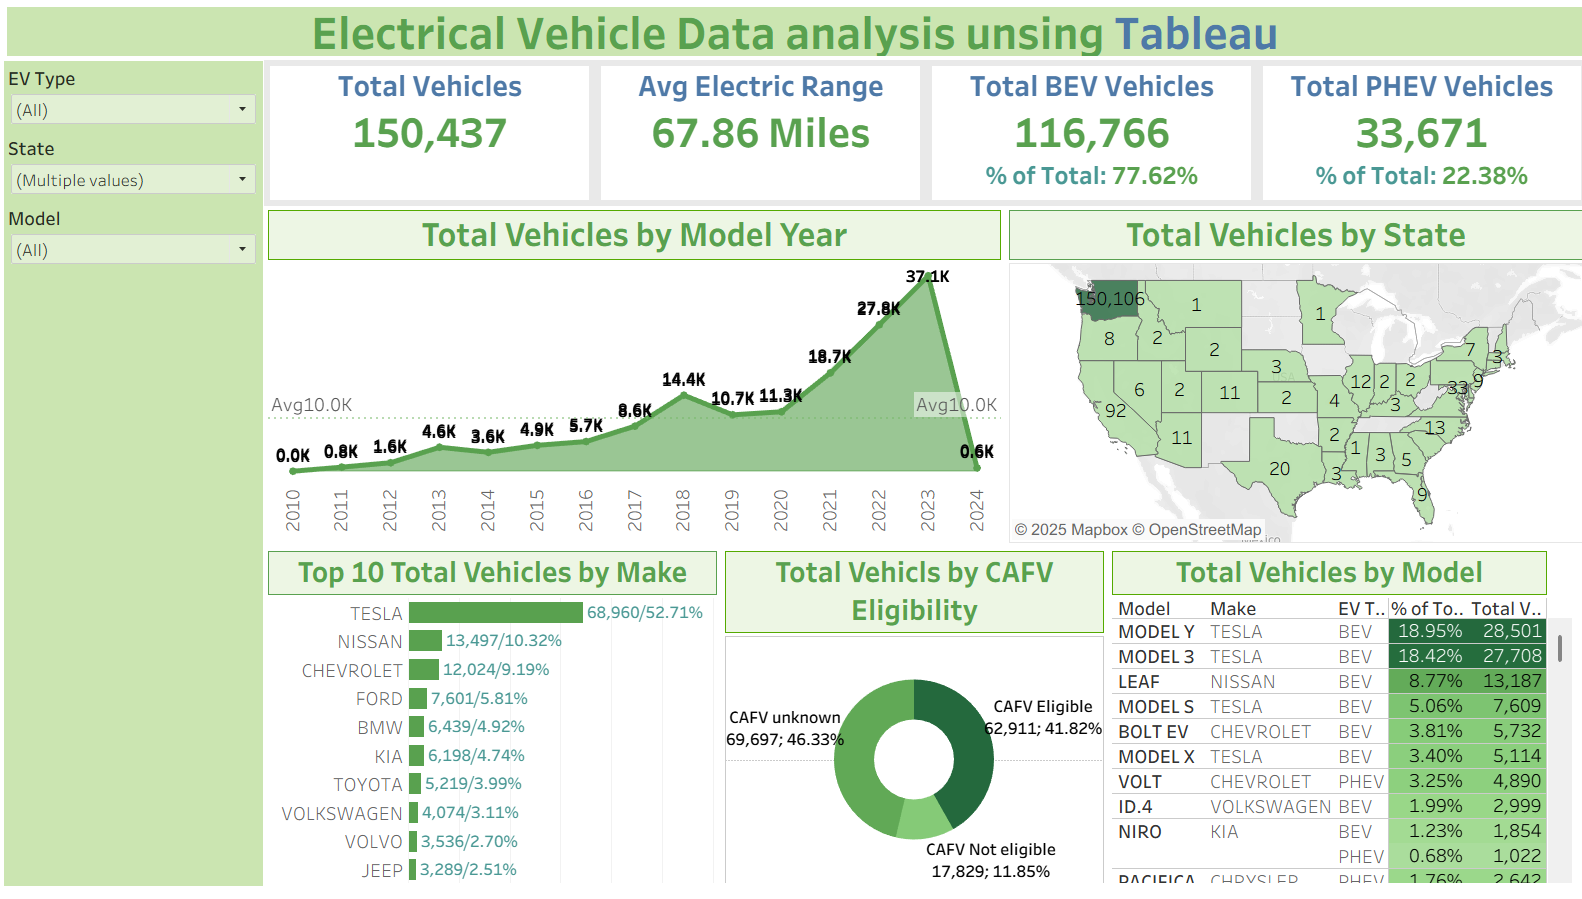

Layout of this report page (visuals, bound fields, positions):
{"tool":"tableau","page":{"name":"Dashboard 1","canvas":[1600,900],"ordinal":0},"visuals":[{"type":"title","box":[8,8,1584,57]},{"type":"worksheet","title":"Total Vehicles","mark":"Automatic","box":[269,65,331,146]},{"type":"worksheet","title":"Avg Electric Range","mark":"Automatic","box":[600,65,331,146]},{"type":"worksheet","title":"Total BEV Vehicles","mark":"Automatic","box":[931,65,331,146]},{"type":"worksheet","title":"Total PHEV Vehicles","mark":"Automatic","box":[1262,65,330,146]},{"type":"filter","title":"Top 10 Total Vehicles by Make","param":"[federated.0c79r1q0rvkbdk1d03bmg1sy12q5].[none:Electric Vehicle Type:nk]","box":[9,66,259,70]},{"type":"filter","title":"Top 10 Total Vehicles by Make","param":"[federated.0c79r1q0rvkbdk1d03bmg1sy12q5].[none:State:nk]","box":[9,136,259,70]},{"type":"filter","title":"Total Vehicles by State","param":"[federated.0c79r1q0rvkbdk1d03bmg1sy12q5].[none:Model:nk]","box":[9,206,259,70]},{"type":"worksheet","title":"Total Vehicles by Model Year","mark":"Area","rows":["Calculation_1084804614355501058","Calculation_1084804614355501058"],"cols":["Model Year"],"box":[269,211,741,340.5]},{"type":"worksheet","title":"Total Vehicles by State","mark":"Multipolygon","box":[1010,211,582,340.5]},{"type":"worksheet","title":"Top 10 Total Vehicles by Make","mark":"Automatic","rows":["Make"],"cols":["Calculation_1084804614355501058"],"box":[269,551.5,457,340.5]},{"type":"worksheet","title":"Total Vehicls by CAFV Eligibility","mark":"Pie","rows":["Calculation_1084804614371631113","Calculation_1084804614371856395"],"box":[726,551.5,387,340.5]},{"type":"worksheet","title":"Total Vehicles by Model","mark":"Square","rows":["Model","Make","Electric Vehicle Type"],"box":[1113,551.5,479,340.5]}]}

Visuals, with their boxes in screenshot pixels (x1, y1, x2, y2), scaled from the page's 1600x900 canvas onto the 1582x899 screenshot:
title: <region>8, 8, 1574, 65</region>
"Total Vehicles" worksheet: <region>266, 65, 593, 211</region>
"Avg Electric Range" worksheet: <region>593, 65, 921, 211</region>
"Total BEV Vehicles" worksheet: <region>921, 65, 1248, 211</region>
"Total PHEV Vehicles" worksheet: <region>1248, 65, 1574, 211</region>
"Top 10 Total Vehicles by Make" filter: <region>9, 66, 265, 136</region>
"Top 10 Total Vehicles by Make" filter: <region>9, 136, 265, 206</region>
"Total Vehicles by State" filter: <region>9, 206, 265, 276</region>
"Total Vehicles by Model Year" worksheet (Area marks): <region>266, 211, 999, 551</region>
"Total Vehicles by State" worksheet (Multipolygon marks): <region>999, 211, 1574, 551</region>
"Top 10 Total Vehicles by Make" worksheet: <region>266, 551, 718, 891</region>
"Total Vehicls by CAFV Eligibility" worksheet (Pie marks): <region>718, 551, 1100, 891</region>
"Total Vehicles by Model" worksheet (Square marks): <region>1100, 551, 1574, 891</region>
